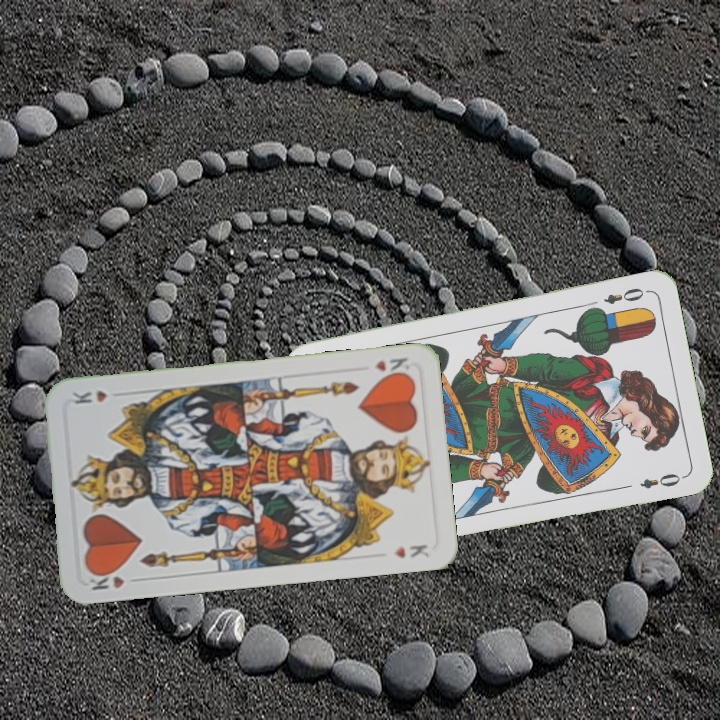EO: (600, 283, 651, 307)
HK: (84, 565, 127, 593), (370, 353, 412, 380)
